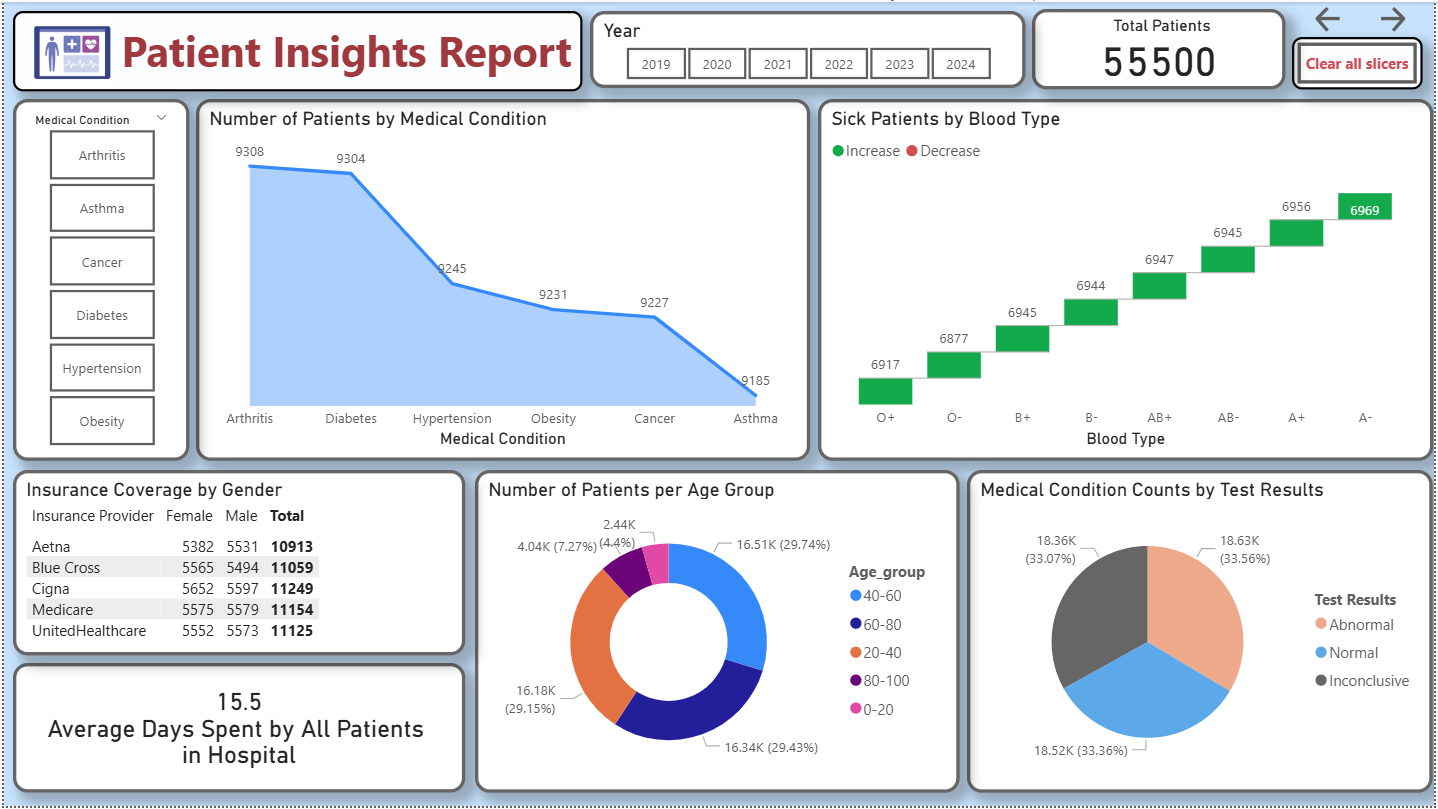

Layout of this report page (visuals, bound fields, positions):
{"tool":"powerbi","page":{"name":"Patientswise Analysis","canvas":[1280,720],"ordinal":1},"visuals":[{"type":"lineChart","title":"Number of Patients by Medical Condition","fields":{"Category":["healthcare_dataset.Medical Condition"],"Y":["healthcare_dataset.Name"]},"box":[172.2,86.6,549.5,323.9],"z":0},{"type":"textbox","box":[8.1,8.1,510.4,71.6],"z":1000},{"type":"image","box":[7.8,8.8,105,69.1],"z":2000},{"type":"waterfallChart","title":"Sick Patients by Blood Type","fields":{"Category":["healthcare_dataset.Blood Type"],"Y":["healthcare_dataset.Name"]},"box":[728.5,86.6,551.5,323.9],"z":3000},{"type":"card","fields":{"Values":["healthcare_dataset.Average_Days_With_Title"]},"box":[7.8,592.3,404.6,115.7],"z":4000},{"type":"slicer","fields":{"Values":["healthcare_dataset.Medical Condition"]},"box":[7.8,86.6,157.6,323.9],"z":5000},{"type":"pieChart","title":"Medical Condition Counts by Test Results","fields":{"Category":["healthcare_dataset.Test Results"],"Y":["healthcare_dataset.Name"]},"box":[862.7,419.2,417.3,288.9],"z":6000},{"type":"actionButton","box":[1153.6,31.1,116.7,46.7],"z":7000},{"type":"actionButton","box":[1227.5,0,42.8,31.1],"z":8000},{"type":"actionButton","box":[1170.1,0,57.4,31.1],"z":9000},{"type":"donutChart","title":"Number of Patients per Age Group","fields":{"Category":["healthcare_dataset.Age_group"],"Y":["healthcare_dataset.Name"]},"box":[422.1,419.2,433.8,288.9],"z":10000},{"type":"pivotTable","title":"Insurance Coverage by Gender","fields":{"Rows":["healthcare_dataset.Insurance Provider"],"Values":["healthcare_dataset.Name"],"Columns":["healthcare_dataset.Gender"]},"box":[7.8,419.2,404.6,166.3],"z":11000},{"type":"card","title":"Total Patients","fields":{"Values":["healthcare_dataset.Total_patients"]},"box":[920.6,6.3,226.6,71.6],"z":12000},{"type":"slicer","title":"Year","fields":{"Values":["healthcare_dataset.Year"]},"box":[524.8,8.1,389.6,69],"z":13000}]}

Visuals, with their boxes in screenshot pixels (x1, y1, x2, y2), scaled from the page's 1280x720 canvas onto the 1438x809 screenshot:
"Number of Patients by Medical Condition" lineChart: [193,97,811,461]
textbox: [9,9,583,90]
image: [9,10,127,88]
"Sick Patients by Blood Type" waterfallChart: [818,97,1437,461]
card - healthcare_dataset.Average_Days_With_Title: [9,666,463,796]
slicer - healthcare_dataset.Medical Condition: [9,97,186,461]
"Medical Condition Counts by Test Results" pieChart: [969,471,1437,796]
actionButton: [1296,35,1427,87]
actionButton: [1379,0,1427,35]
actionButton: [1315,0,1379,35]
"Number of Patients per Age Group" donutChart: [474,471,962,796]
"Insurance Coverage by Gender" pivotTable: [9,471,463,658]
"Total Patients" card: [1034,7,1289,88]
"Year" slicer: [590,9,1027,87]
